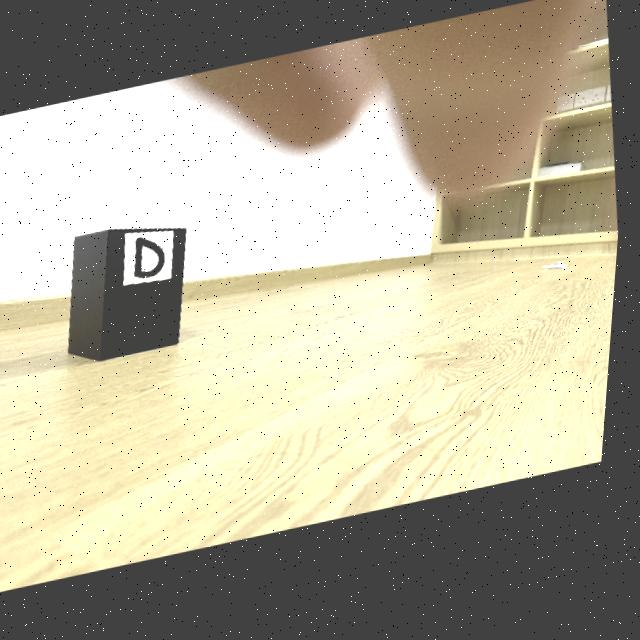D: (138, 240, 169, 282)
